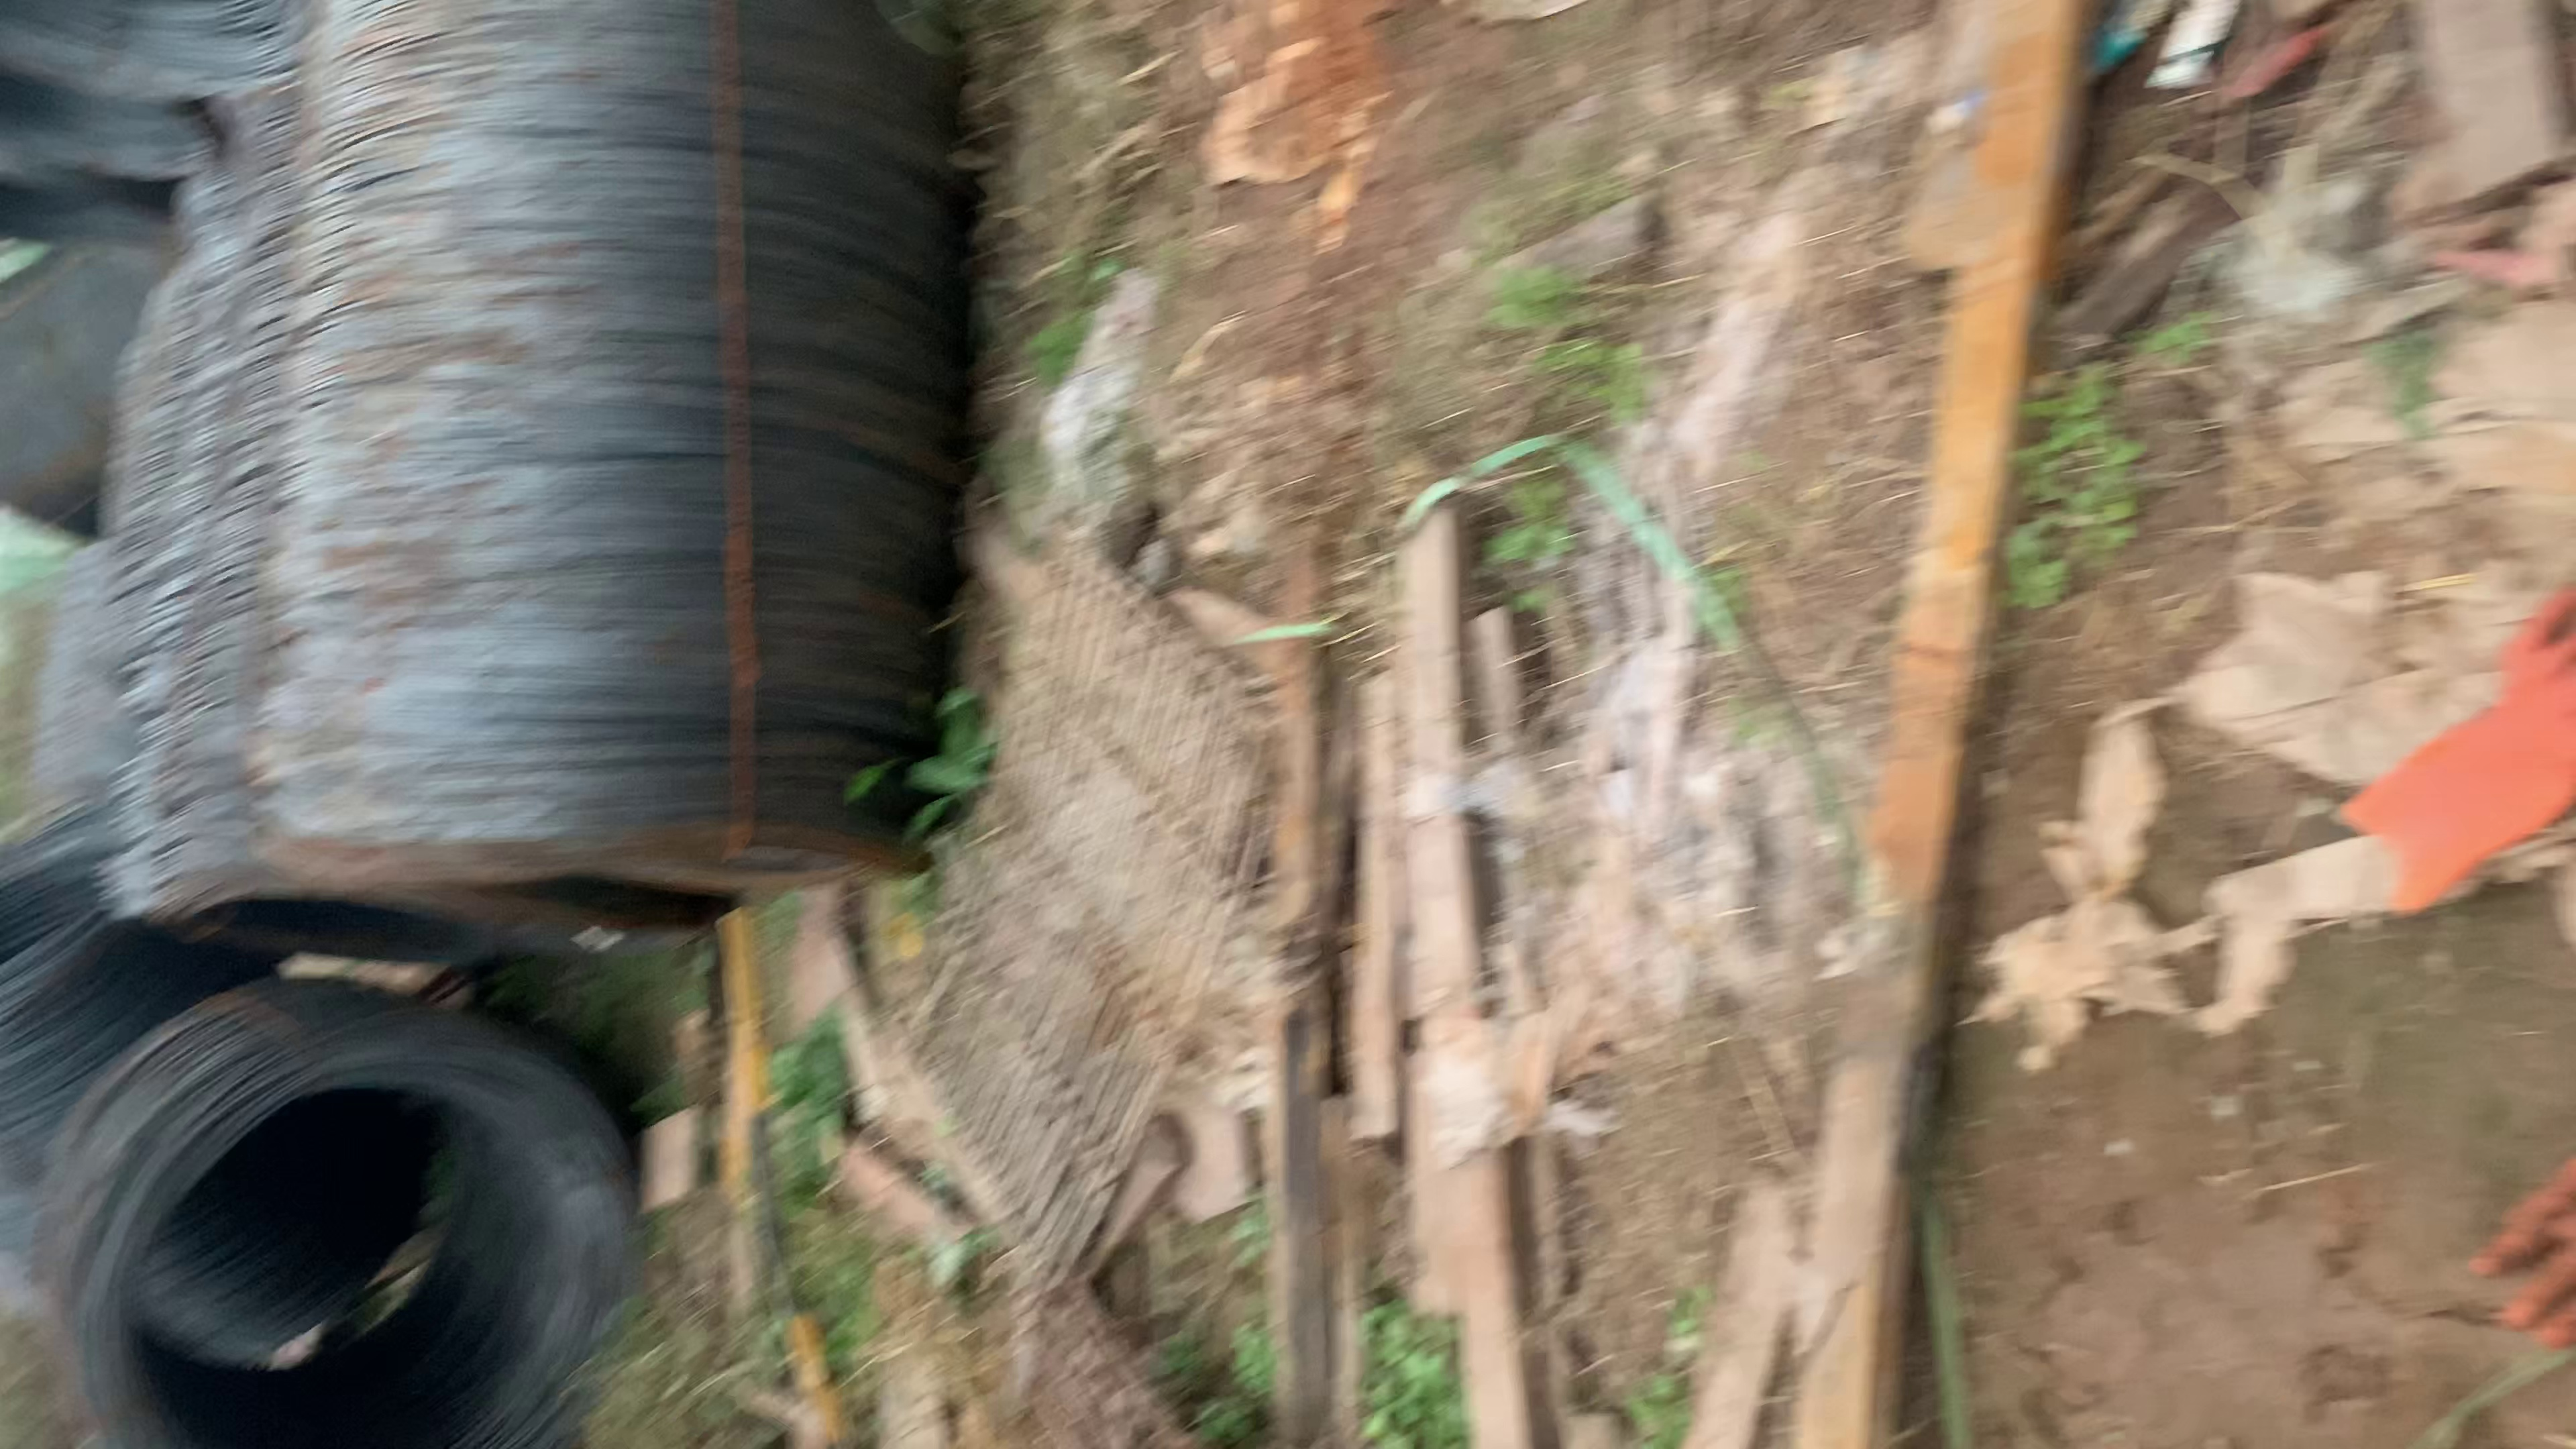coil: (76, 1054, 644, 1426), (271, 826, 922, 954), (117, 872, 688, 1008), (74, 0, 368, 103)
